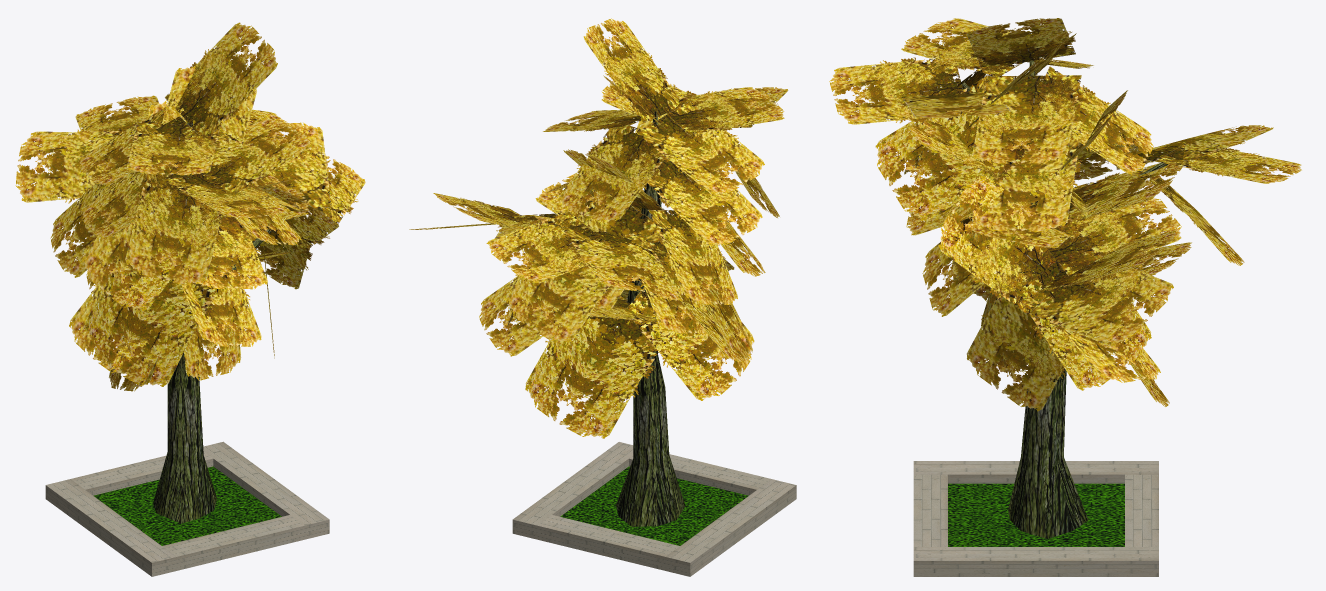
Rendered from tree B.FBX.
3 renders of one model, left to right at view 1: azimuth 30°, elevation 25°; view 2: azimuth 150°, elevation 25°; view 3: azimuth 270°, elevation 25°, orthographic. The views are drawn at different scales.
Visible parts, largest first — view 1: Cylinder001; view 2: Cylinder001; view 3: Cylinder001.
Boxes of the visible parts, x1=… form: Cylinder001: x1=15, y1=22, x2=365, y2=576; Cylinder001: x1=409, y1=18, x2=796, y2=576; Cylinder001: x1=829, y1=18, x2=1301, y2=576.
Size of the model in its own units: 40.21 by 56.49 by 45.3.
